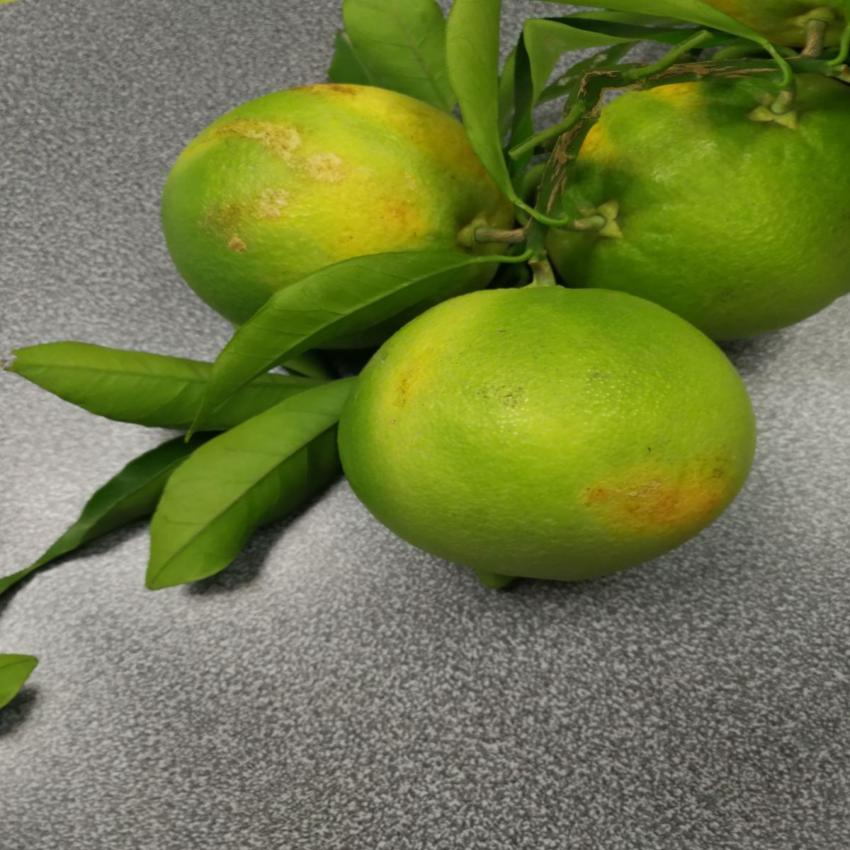Mal estado: (341, 268, 774, 609), (126, 82, 524, 352), (533, 70, 850, 319)
